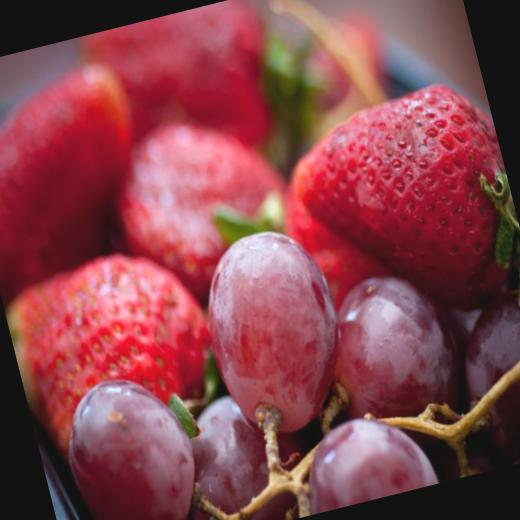Orange: (184, 214, 364, 446), (310, 263, 474, 470), (53, 361, 215, 520), (160, 376, 310, 520), (292, 399, 439, 514), (446, 283, 520, 455)
